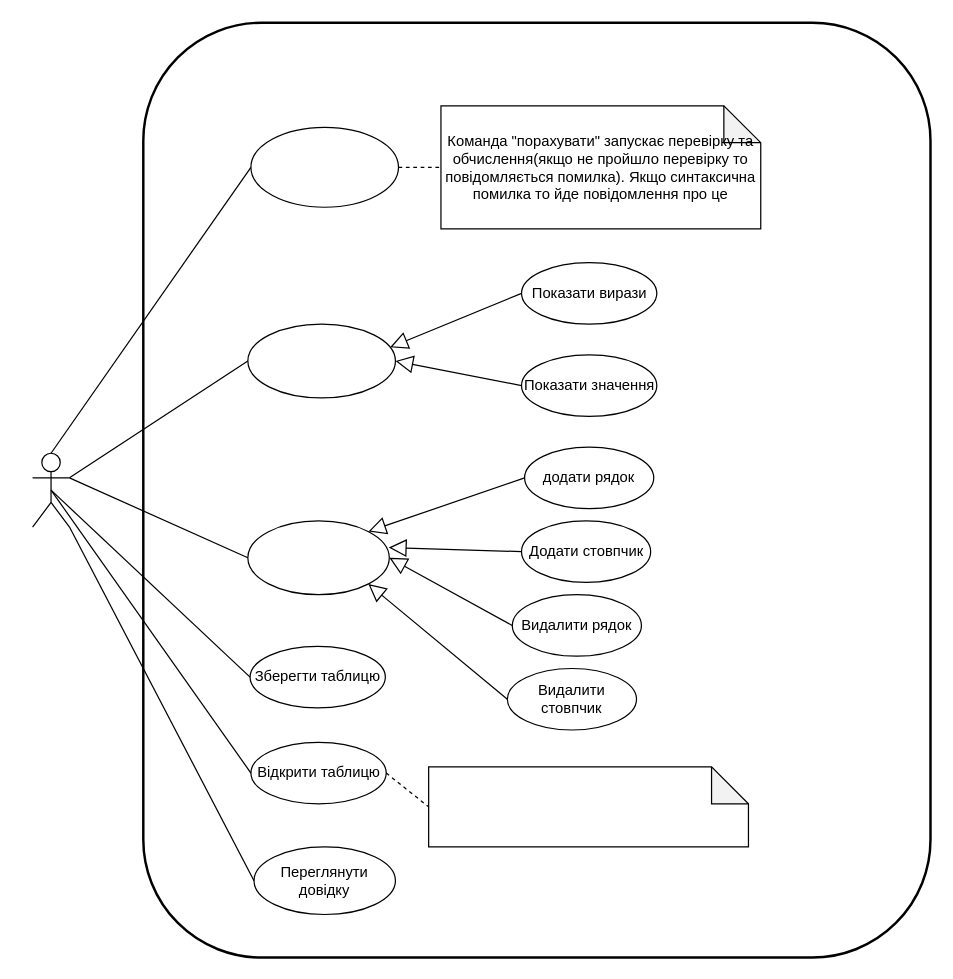
Some shapes in this 953 by 979 pixel diagram are drawn without their labels. Here are the shapes that lost their labels. From the top down, the centre of each, then its label:
(x=324, y=166): Редагувати вираз у клітинці
(x=321, y=360): Змінити режим відображення
(x=50, y=489): Користувач
(x=318, y=557): Змінити розмір таблиці
(x=587, y=806): Якщо некоректний формат файлу: показати помилку, поточну таблицю не змінювати
